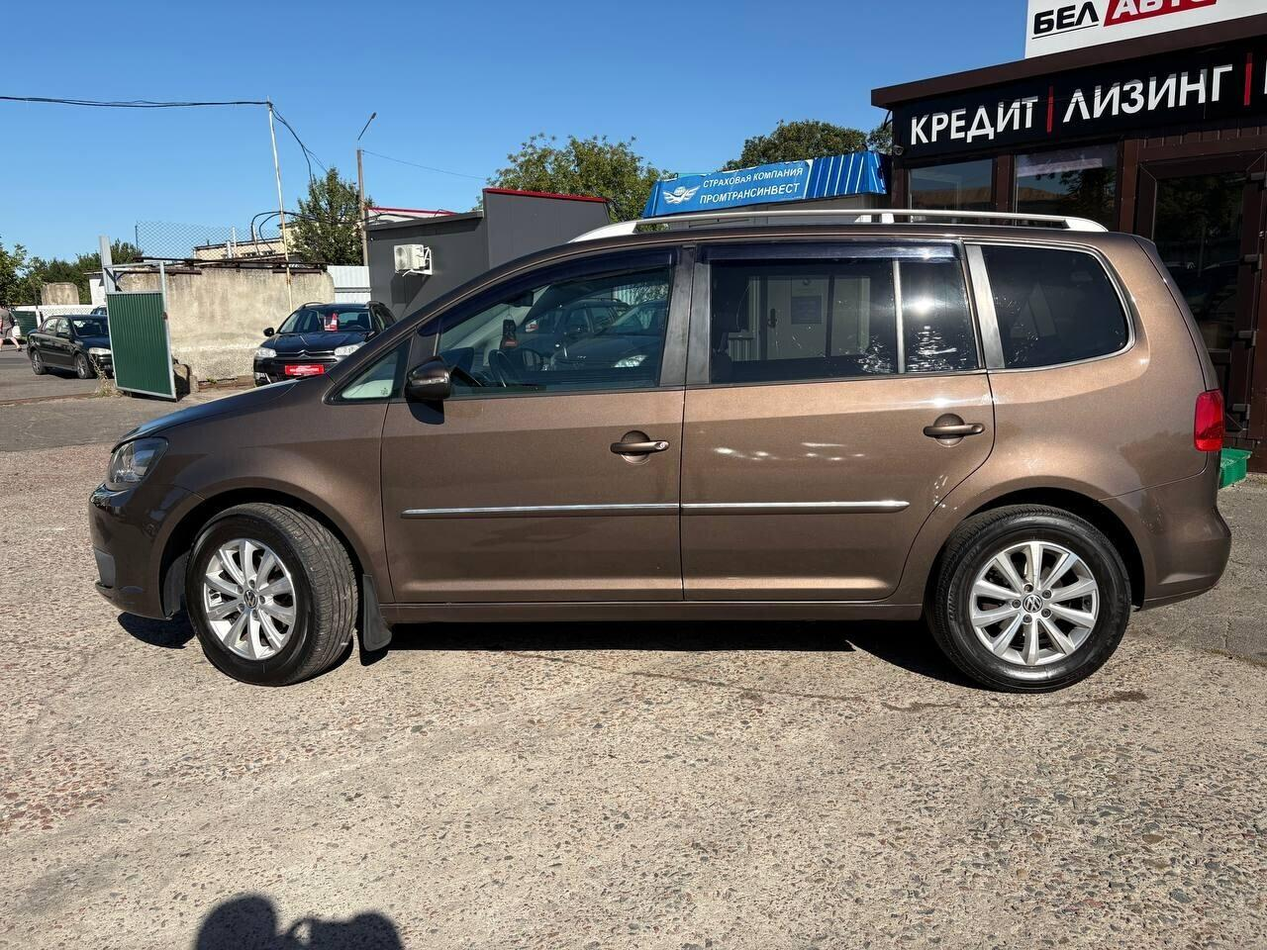Touran_2010-2015: (89, 210, 1232, 678)
